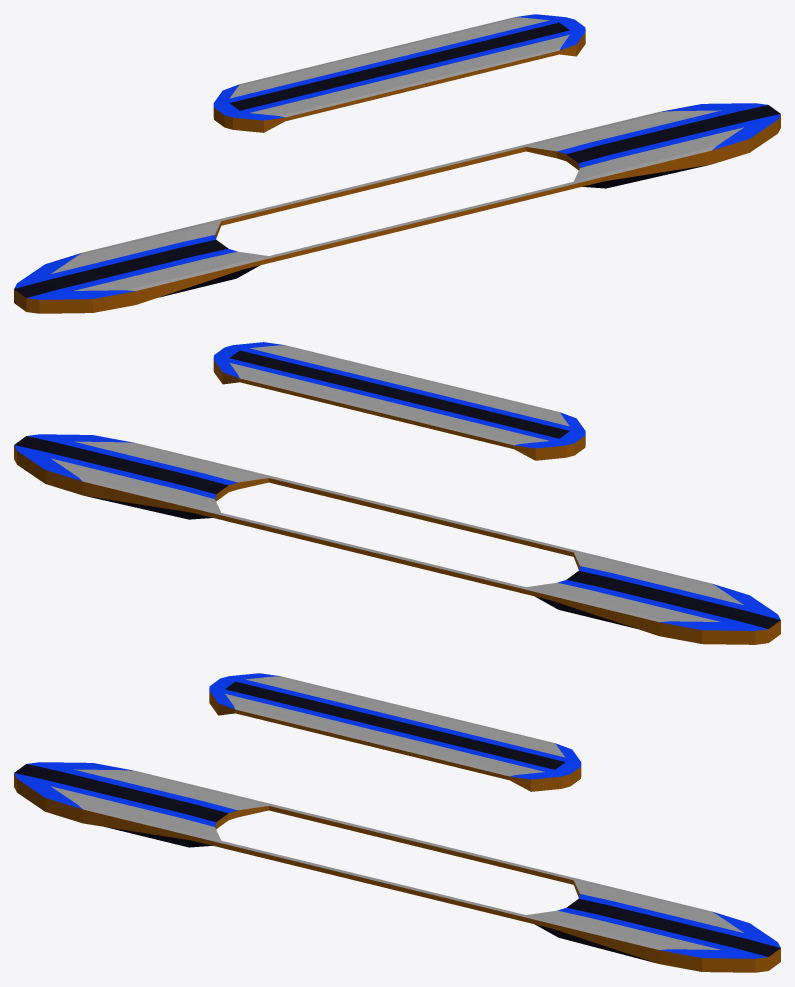
Rendered from stadium.obj.
3 renders of one model, top to bottom at view 1: azimuth 30°, elevation 25°; view 2: azimuth 150°, elevation 25°; view 3: azimuth 330°, elevation 25°, orthographic.
Parts seen in each view (by area): view 1: Cube, Cube.001; view 2: Cube, Cube.001; view 3: Cube, Cube.001.
Boxes of the visible parts, bbox=[...] form: Cube: bbox=[14, 103, 780, 313]; Cube.001: bbox=[213, 14, 585, 132]; Cube: bbox=[14, 434, 780, 644]; Cube.001: bbox=[213, 342, 585, 460]; Cube: bbox=[14, 762, 780, 972]; Cube.001: bbox=[209, 673, 581, 791].
Size of the model in its own units: 23.29 by 4.46 by 2.82.
